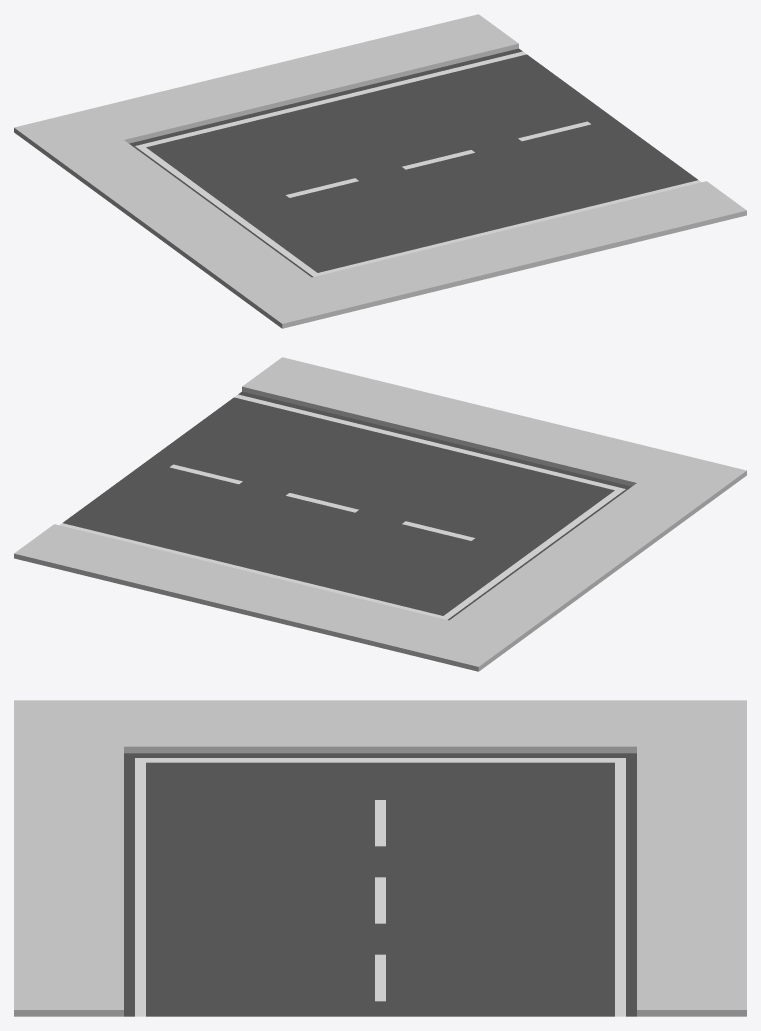
Rendered from road_end.glb.
3 renders of one model, top to bottom at view 1: azimuth 30°, elevation 25°; view 2: azimuth 150°, elevation 25°; view 3: azimuth 270°, elevation 25°, orthographic. The views are drawn at different scales.
Visible parts, largest first — view 1: SPW_Urban_Road 2way_04; view 2: SPW_Urban_Road 2way_04; view 3: SPW_Urban_Road 2way_04.
Boxes of the visible parts, <box> form: SPW_Urban_Road 2way_04: <box>14,14,746,328</box>; SPW_Urban_Road 2way_04: <box>14,357,746,671</box>; SPW_Urban_Road 2way_04: <box>14,700,746,1016</box>.
Size of the model in its own units: 20 by 0.2 by 20.
1 material, 1 textured.
